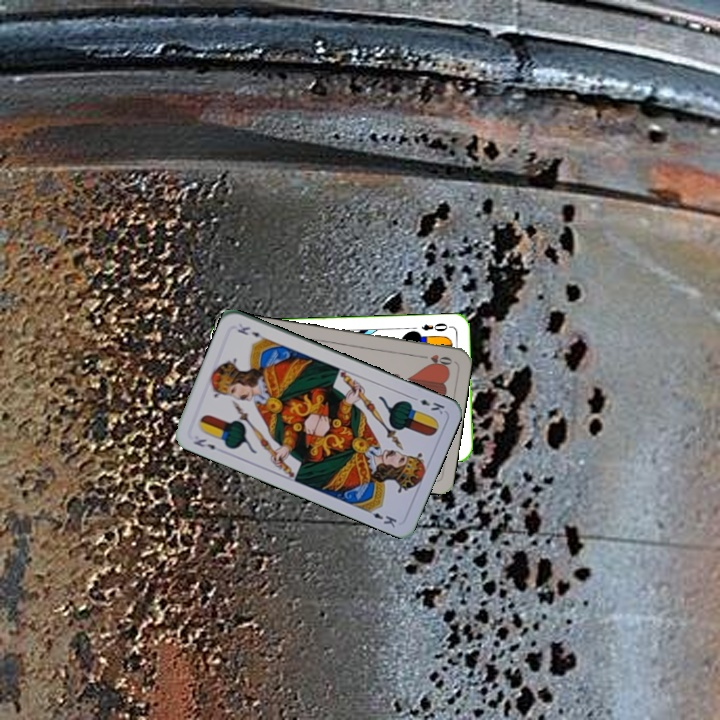EK: (408, 393, 447, 417), (189, 435, 218, 452)
EO: (417, 319, 454, 334)
HO: (415, 350, 455, 368)
